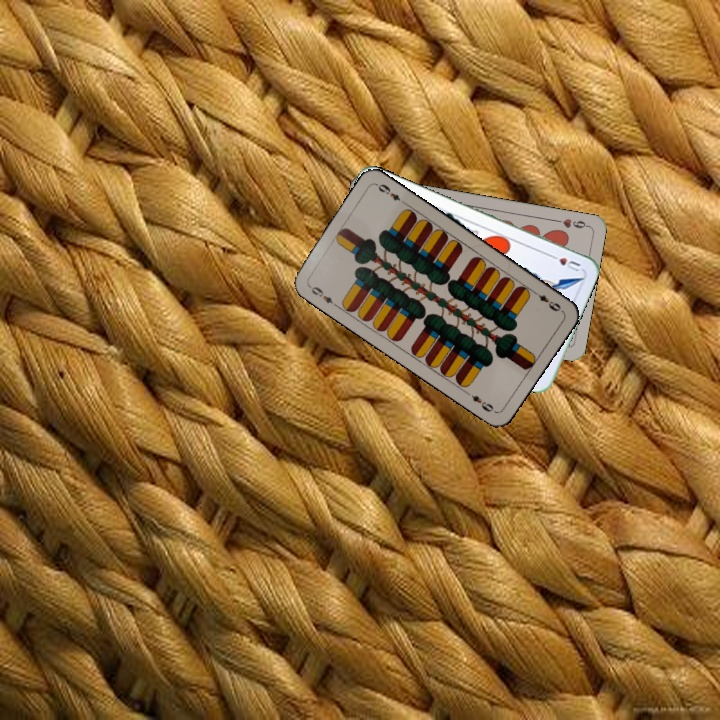E9: (305, 281, 340, 309), (529, 287, 565, 314)
H9: (550, 214, 591, 231)
HU: (545, 250, 583, 274)
